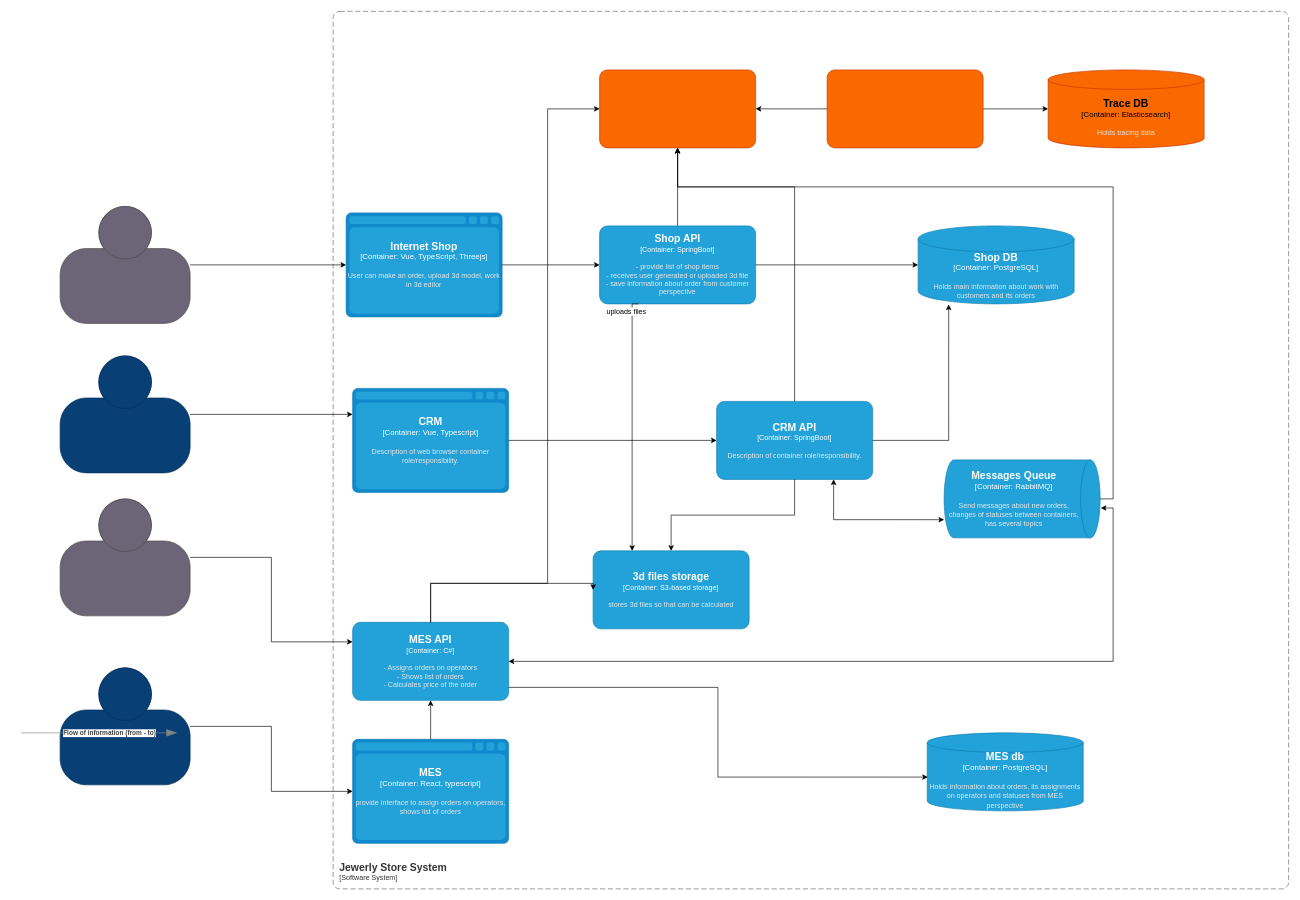
Image size: 1300x900. Some labels were removed from this diagram. Each missing label, with the box of its shape:
API user [Person] Description of external person.: (59, 498, 190, 616)
Customer [Person] Description of external person.: (59, 206, 190, 323)
Operator [Person] Takes order in work, manufactures jewerly: (59, 667, 190, 785)
Seller [Person] Operates with order, confirms manufacturing for the user: (59, 355, 190, 473)
Trace Backend + UI [Container: Jaeger] Processing and visualization of traces: (826, 69, 983, 148)
Trace Collector [Container: OpenTelemetry Collector] OTLP receiver: (599, 69, 756, 148)
